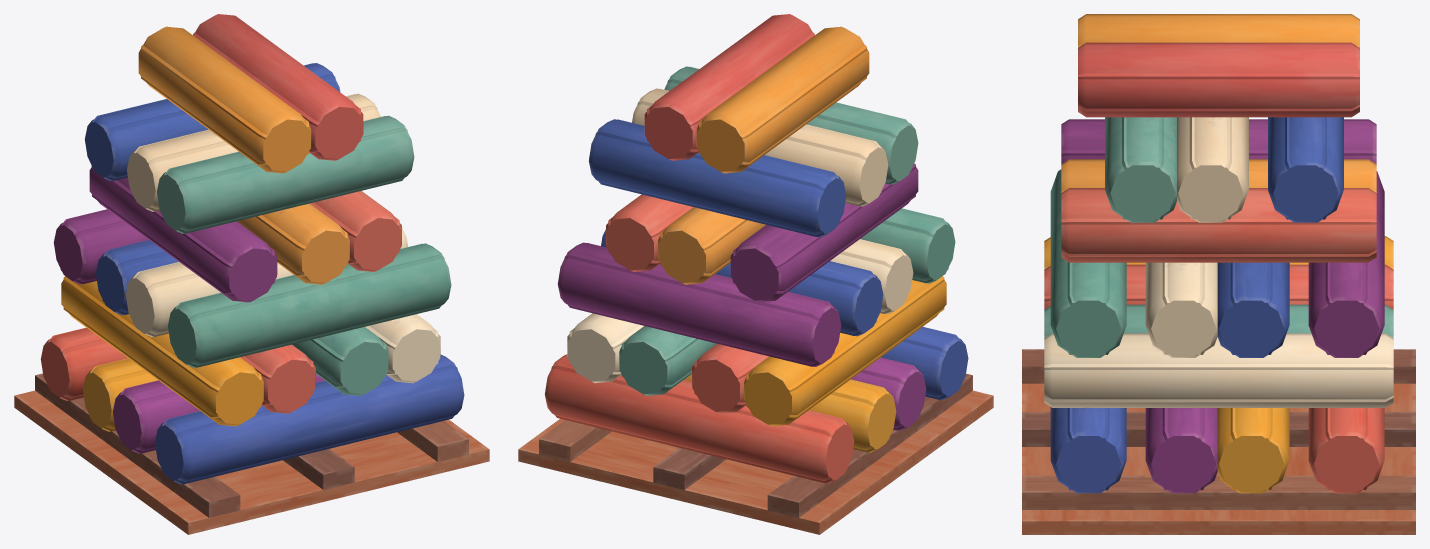
The model's file is bolts.bundle.fbx.
The picture shows the model from 3 angles, left to right: view 1: azimuth 30°, elevation 25°; view 2: azimuth 150°, elevation 25°; view 3: azimuth 270°, elevation 25°; orthographic projection. The views are drawn at different scales.
Parts seen in each view (by area): view 1: bolts, bolts_low, bolts_s04, bolts_s00, bolts_s05, bolts_s06, bolts_s02; view 2: bolts, bolts_low, bolts_s03, bolts_s02, bolts_s06, bolts_s07; view 3: bolts, bolts_low, bolts_s05, bolts_s03, bolts_s04, bolts_s02, bolts_s00, bolts_s07, bolts_s01.
Part boxes in pixels (x1,y1,x2,y2): bolts: (14, 14, 489, 534); bolts_low: (41, 32, 457, 483); bolts_s04: (233, 436, 399, 503); bolts_s00: (162, 472, 295, 533); bolts_s05: (383, 423, 489, 481); bolts_s06: (57, 410, 162, 473); bolts_s02: (14, 373, 82, 426); bolts: (518, 14, 993, 534); bolts_low: (551, 32, 967, 483); bolts_s03: (518, 418, 642, 491); bolts_s02: (721, 470, 862, 533); bolts_s06: (846, 408, 926, 495); bolts_s07: (641, 448, 719, 509); bolts: (1022, 14, 1415, 534); bolts_low: (1044, 45, 1393, 490); bolts_s05: (1022, 475, 1243, 534); bolts_s03: (1230, 452, 1415, 534); bolts_s04: (1022, 408, 1150, 475); bolts_s02: (1385, 349, 1415, 411); bolts_s00: (1022, 349, 1050, 412); bolts_s07: (1298, 408, 1415, 452); bolts_s01: (1215, 412, 1308, 480).
Size of the model in its own units: 5.8 by 6.83 by 5.8.
1 material, 1 textured.
